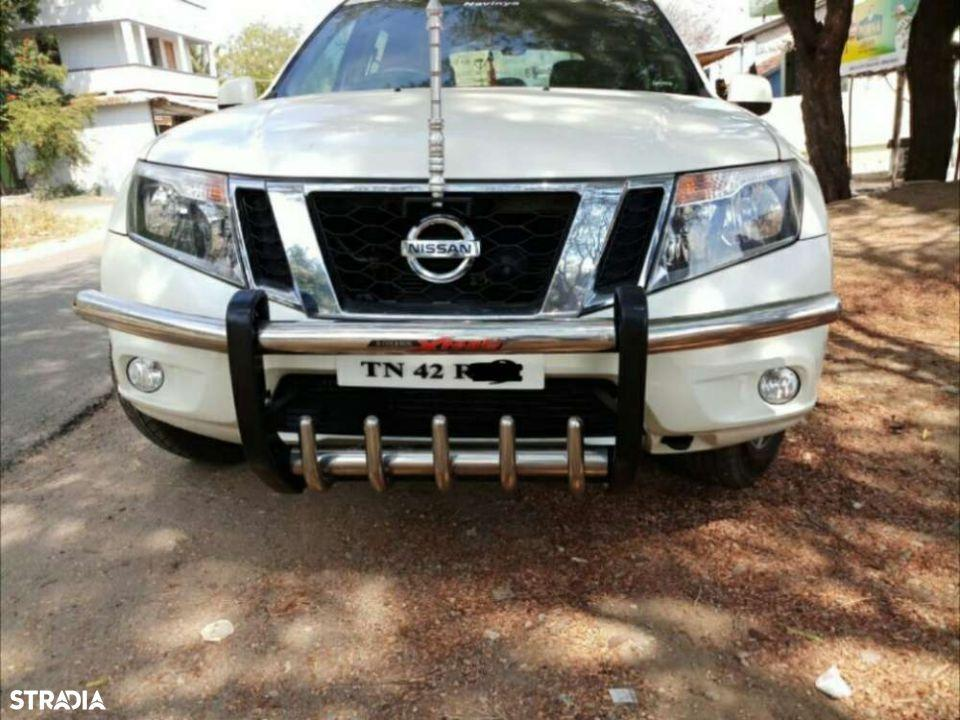licence-plate: (334, 356, 547, 390)
